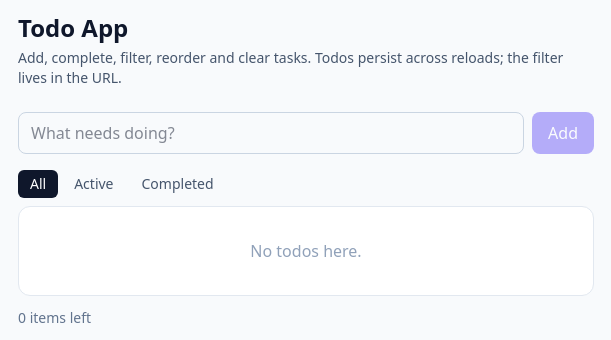
Test: TodoApp › adds todos and clears the input
This screenshot has width=611, height=340.
Type "Write tests" into the field named "New todo" at x=271, y=133, box top-left (18, 112), bottom-right (524, 154)
Then press Enter
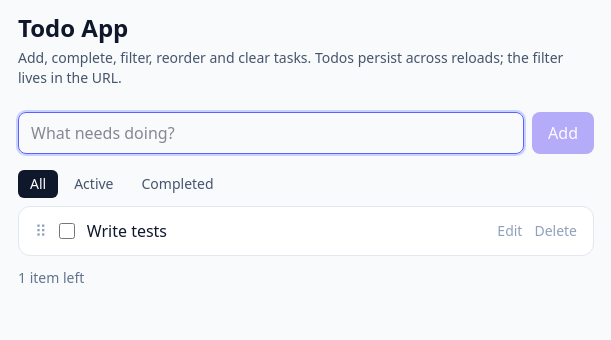
Expected: the button "Write tests" is shown, top-left (87, 219), bottom-right (485, 243)
Expected: the text "1 item left" is shown, top-left (18, 268), bottom-right (84, 288)
